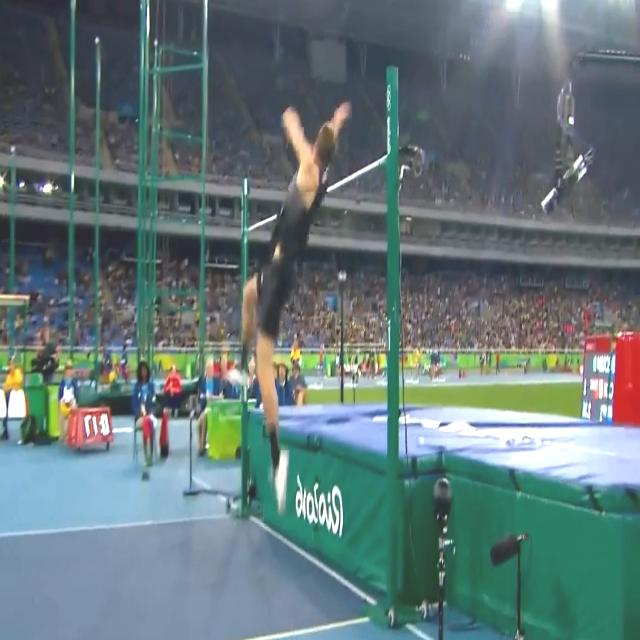jump: (226, 101, 351, 516)
